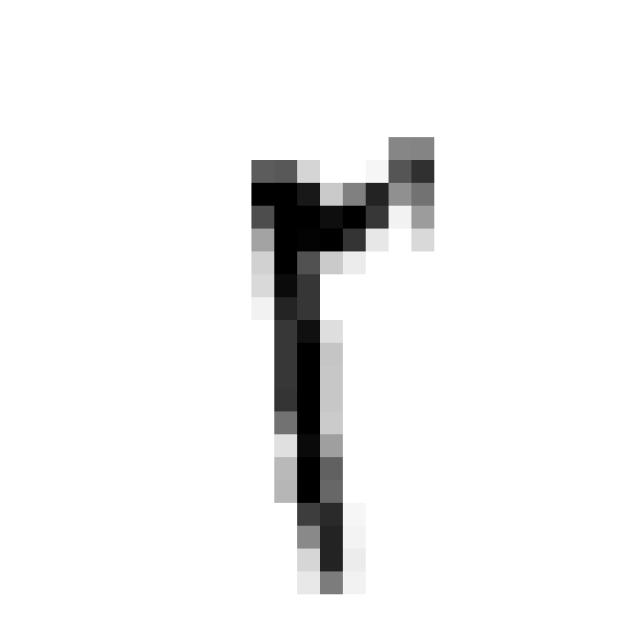3 -three-: (224, 114, 448, 601)
